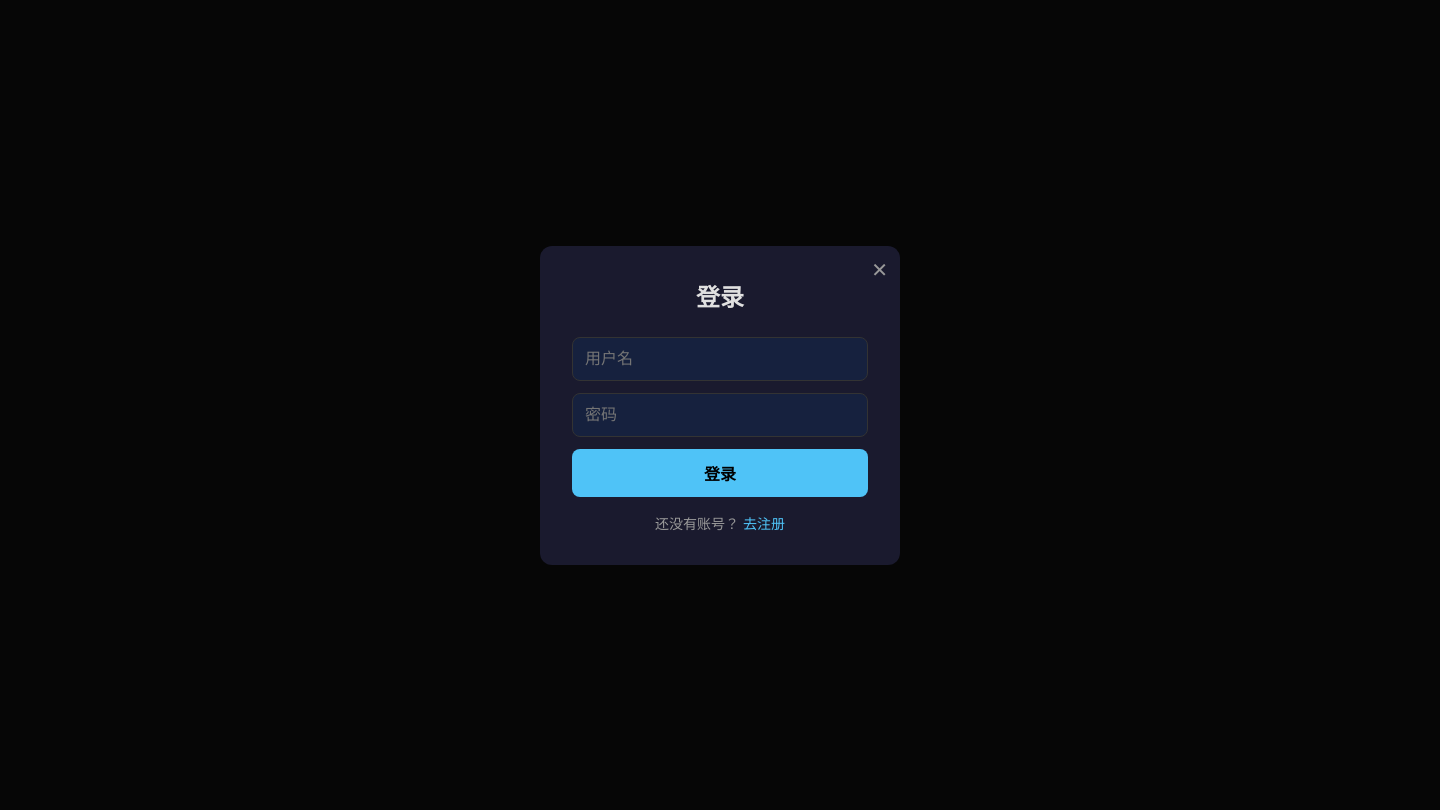
Test: LoginModal › toggles between login and register
Click the link "去注册".
click(764, 523)  # box [743,514,785,532]
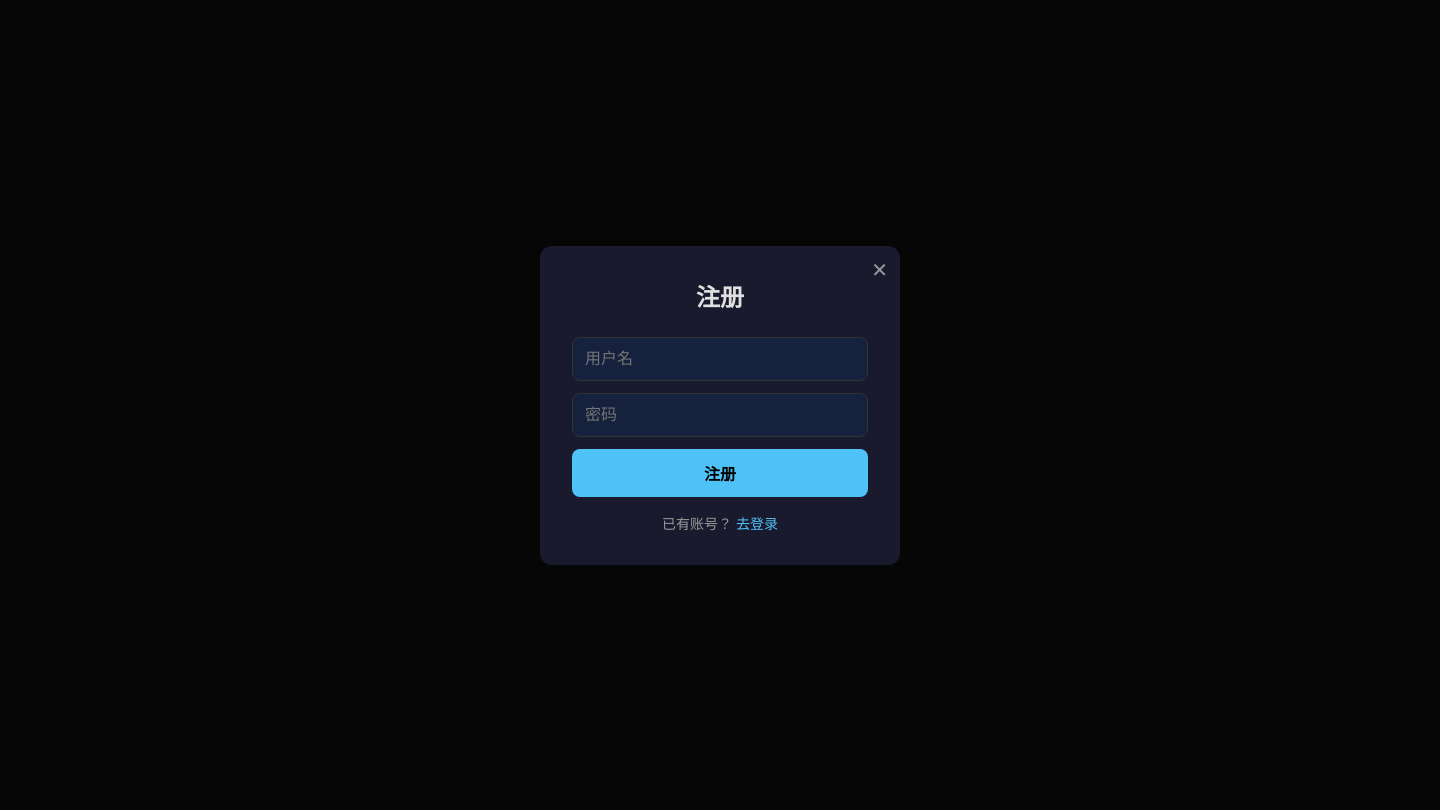
Now the heading "注册" is shown, box [696,282,744,312]
Click the link "去登录".
click(757, 523)  # box [736,514,778,532]
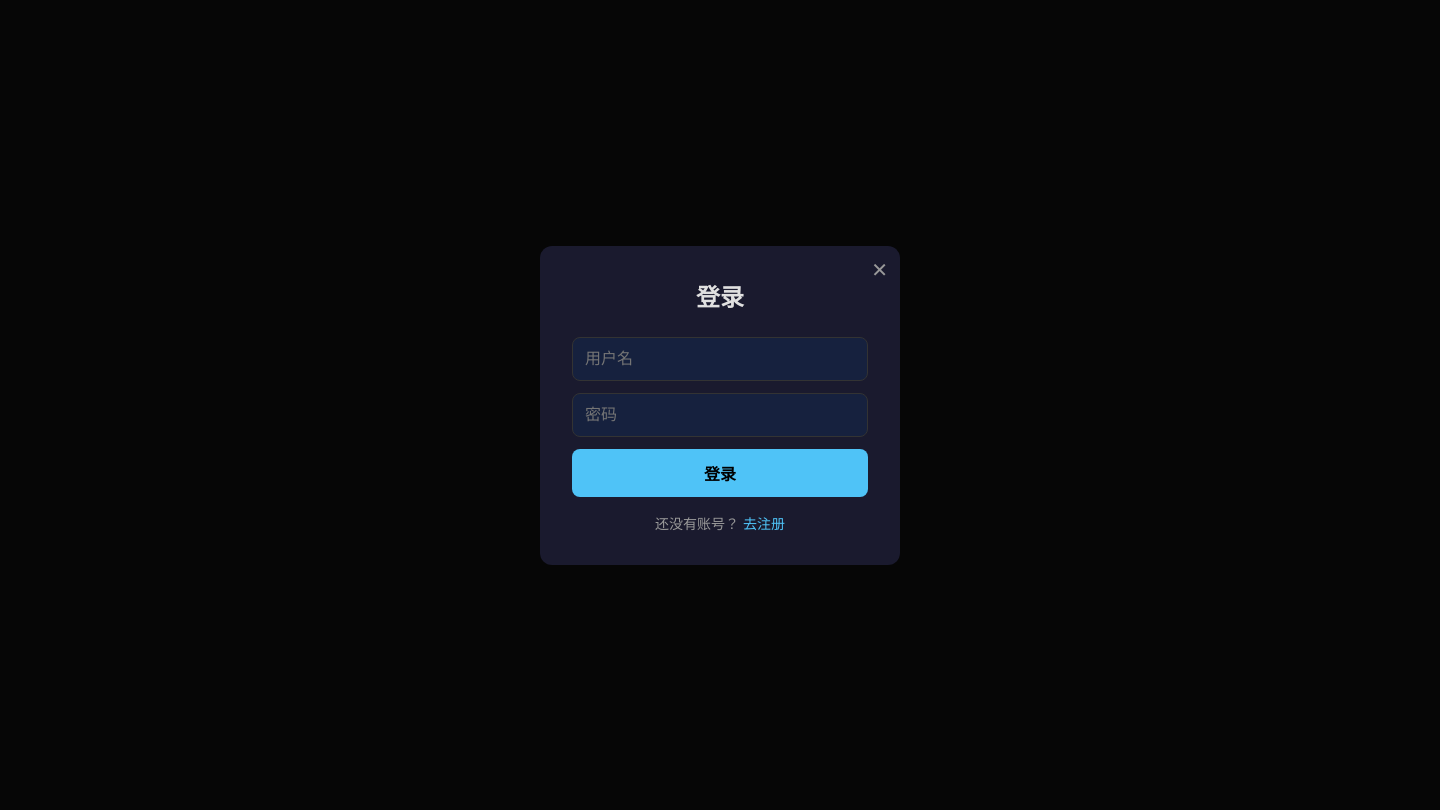
Now the heading "登录" is shown, box [696,282,744,312]
